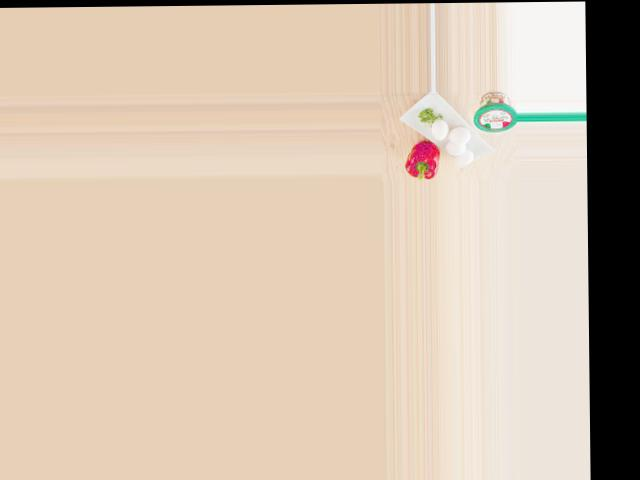bell_pepper: (402, 141, 446, 179)
